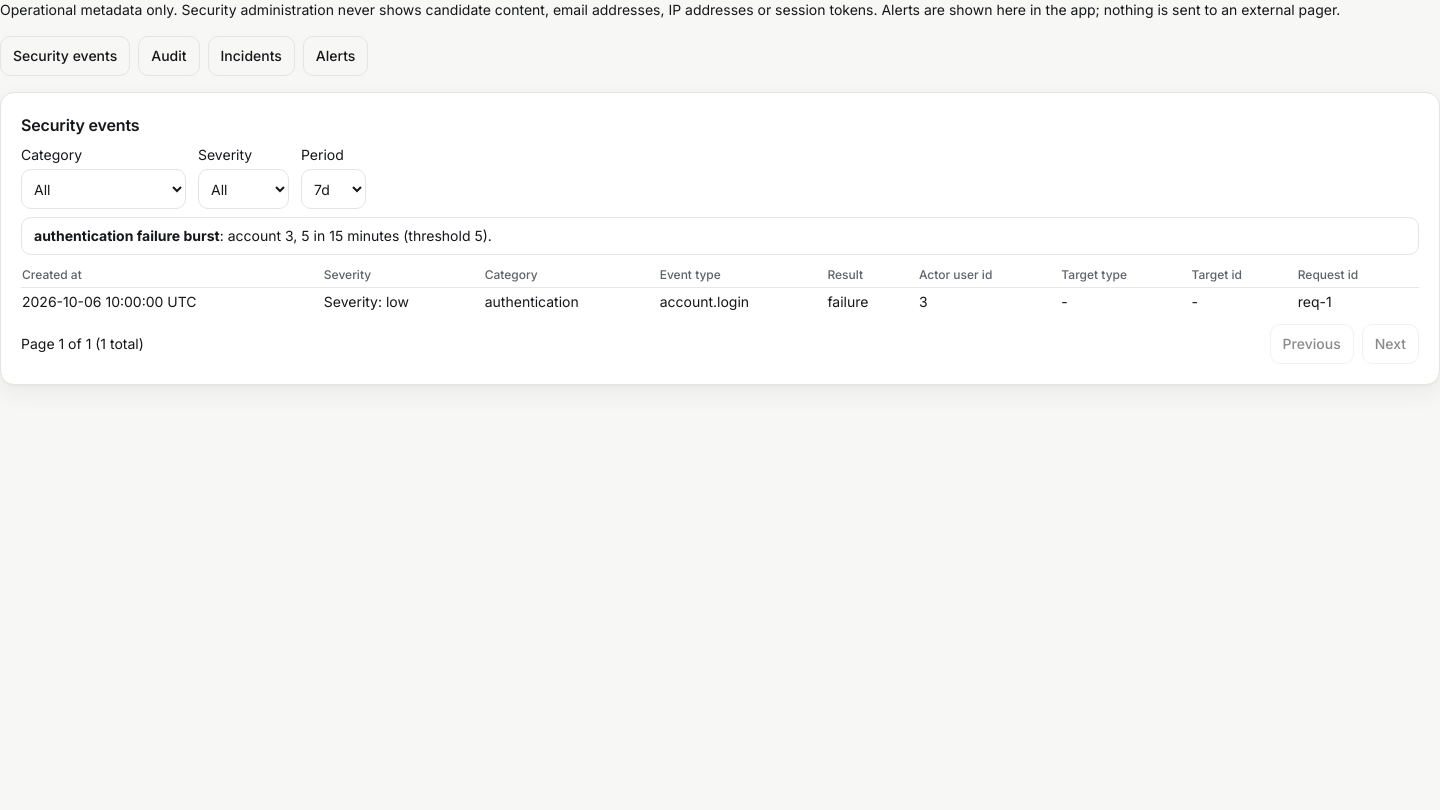
Test: Admin Security › a stale incident revision surfaces the conflict message
Click the tab "Incidents" at (251, 56), box [208,36,295,76]
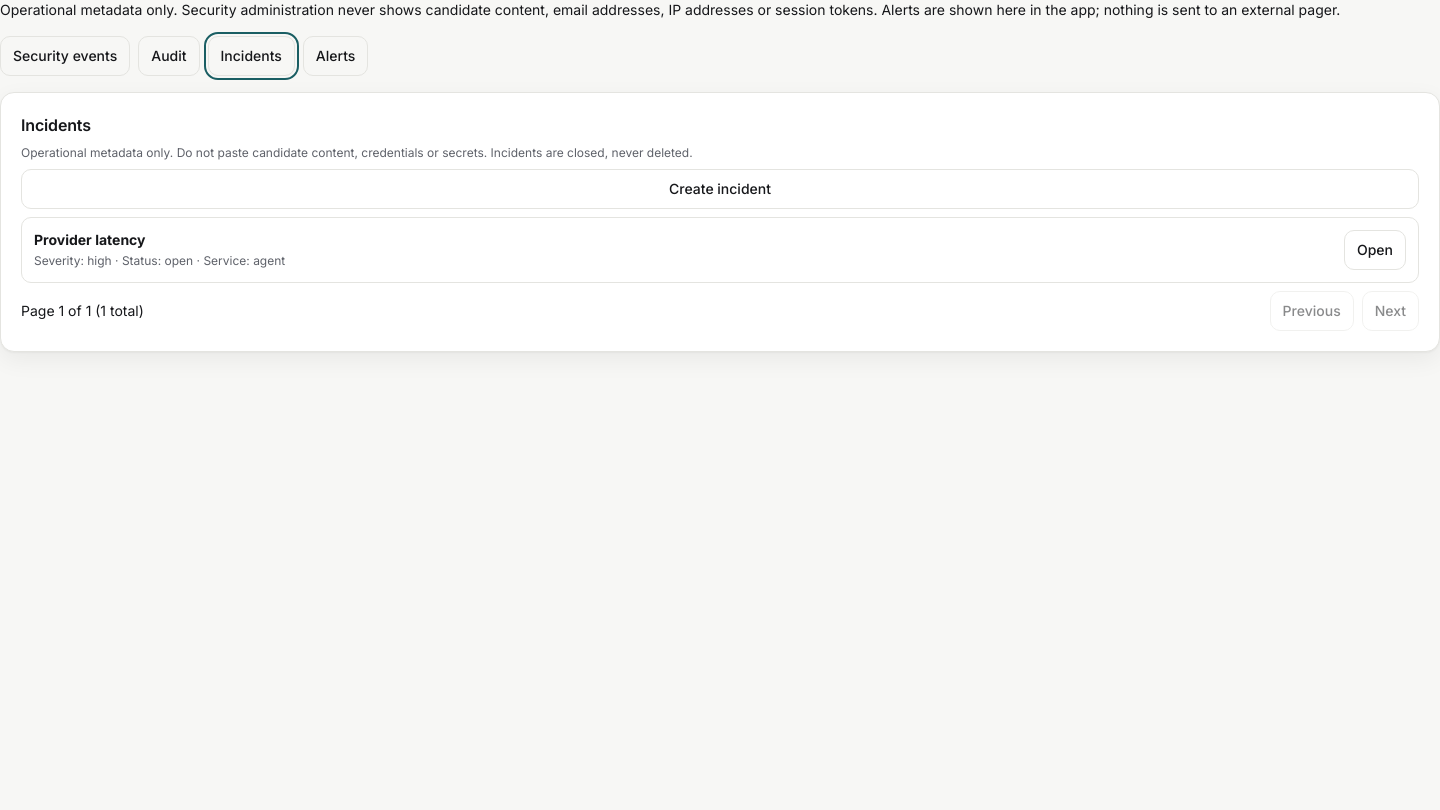
Click the button "Open" at (1375, 250), box [1344,230,1406,270]
(page scrolled)
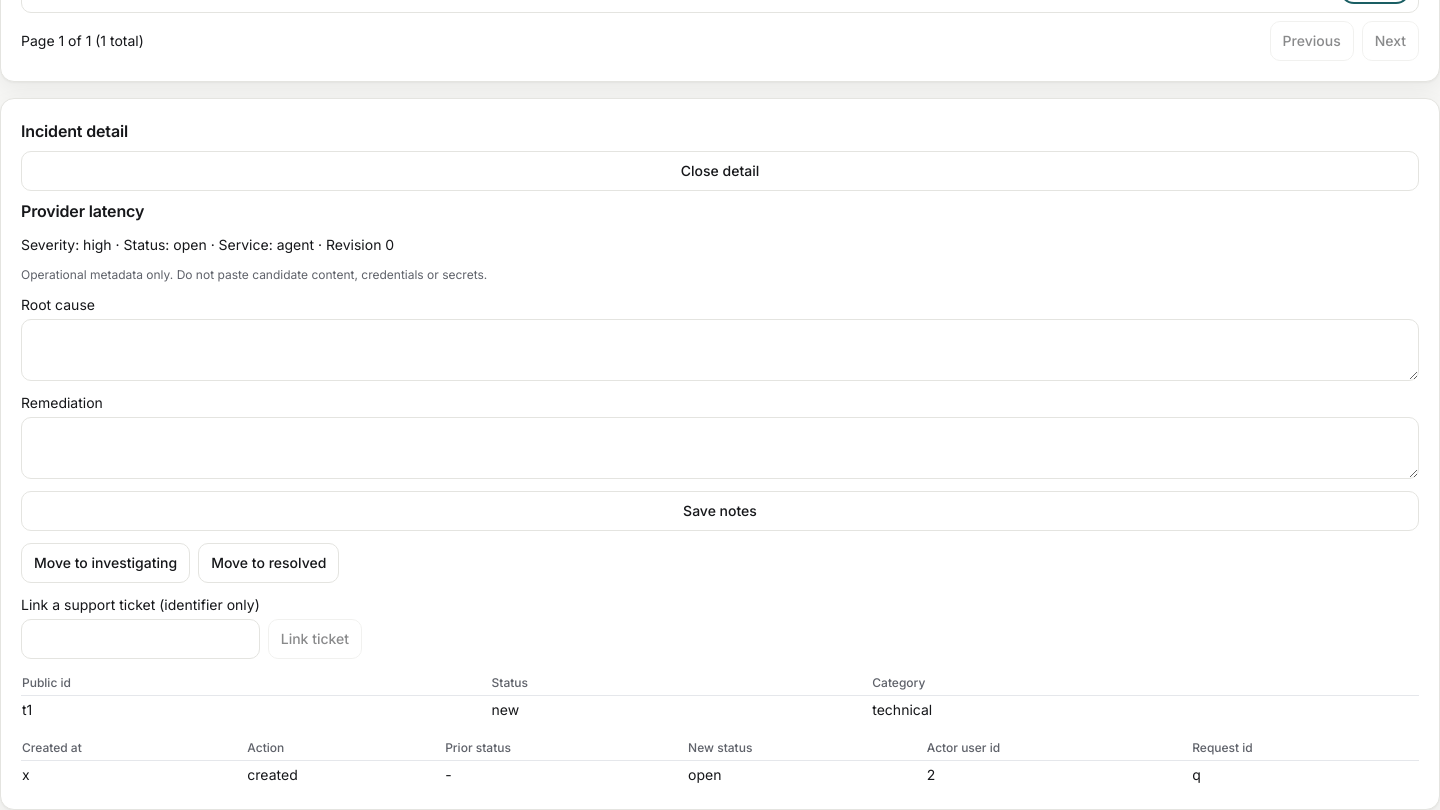
Click the button "Move to resolved" at (269, 563), box [198,543,339,583]
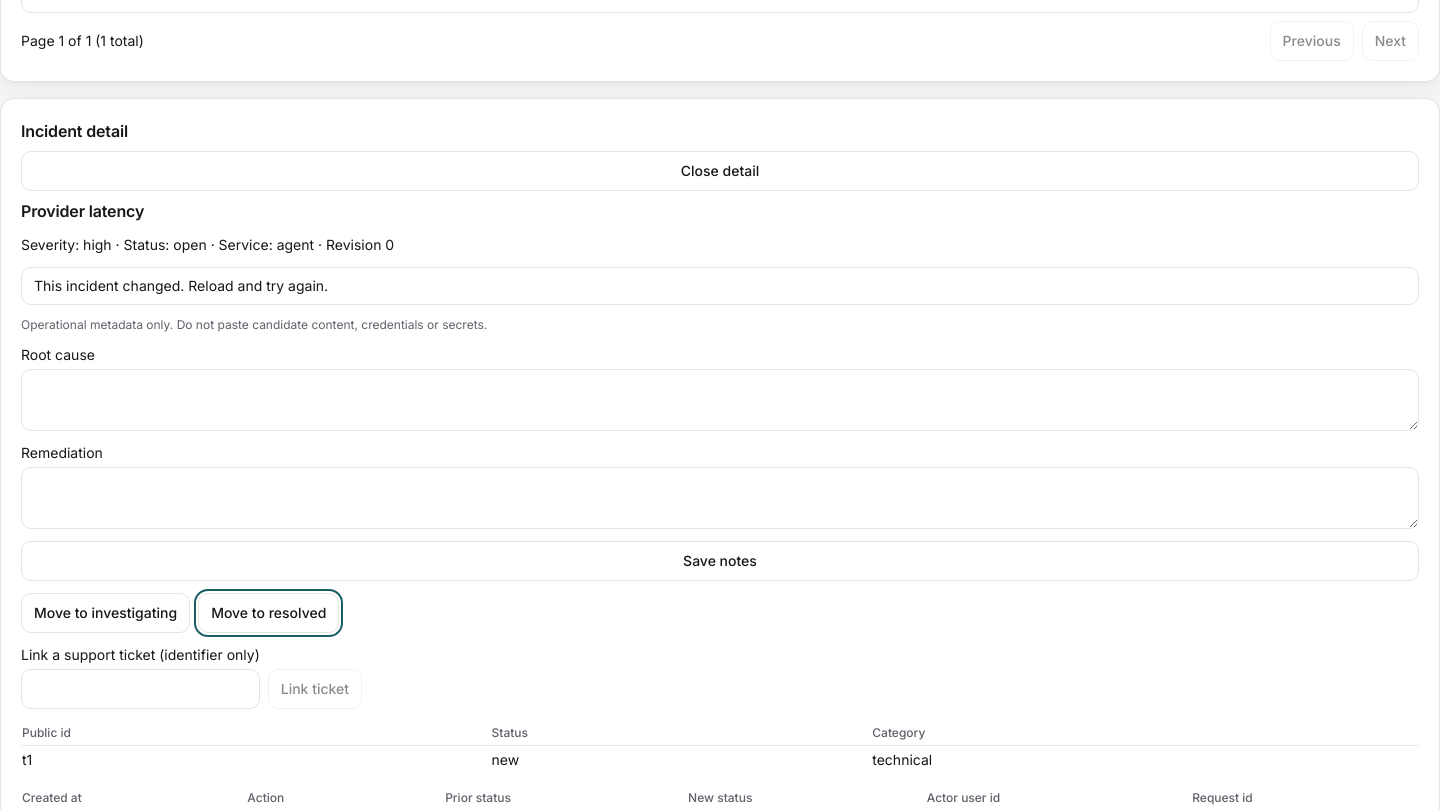
Check: the message "This incident changed. Reload and try again." is shown, box [21,267,1419,305]
